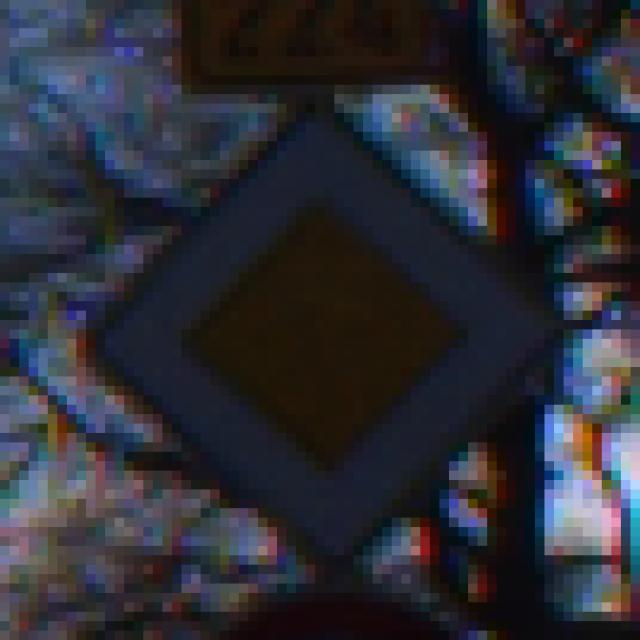Main Road: (58, 67, 584, 584)
